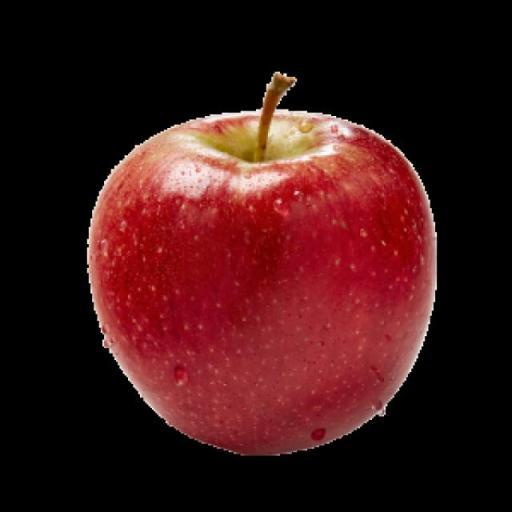fruit: (89, 73, 432, 453)
